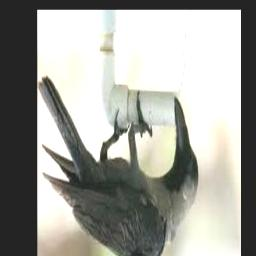Crow: (39, 76, 199, 256)
